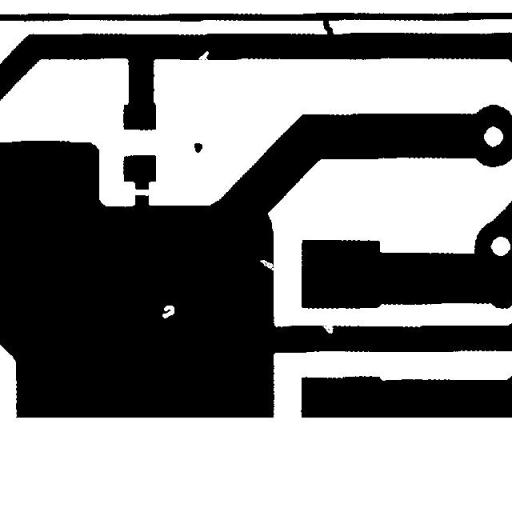copper: (186, 135, 210, 160)
mousebite: (252, 252, 282, 278), (314, 314, 340, 341), (190, 43, 216, 69)
open: (123, 180, 158, 203)
pin-hole: (154, 298, 182, 326)
short: (315, 11, 342, 48)
